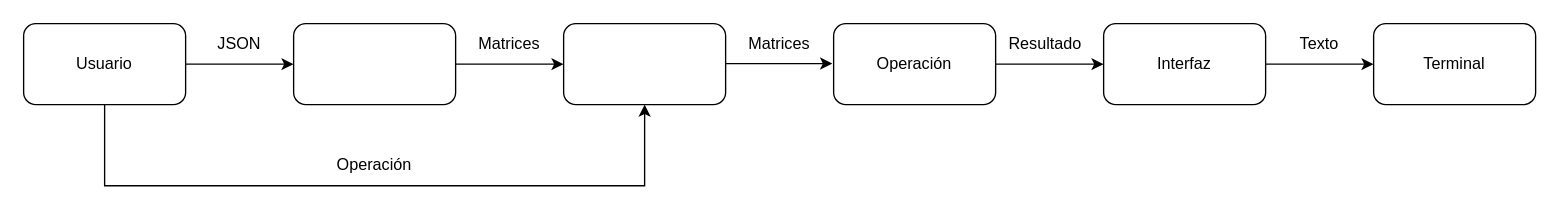
The diagram is 1559 pixels wide and 221 high, and some of its shapes have lost their labels. The centre of each missing label's shape, as x and y in pixels:
Adapter: the point at 374,63
Aplicación: the point at 644,63
